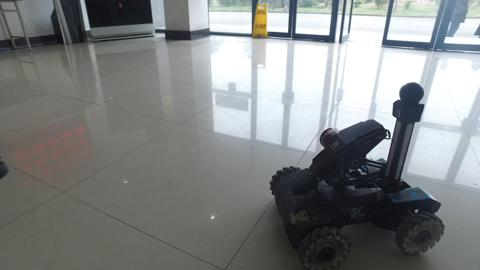chariot: (269, 80, 447, 270)
